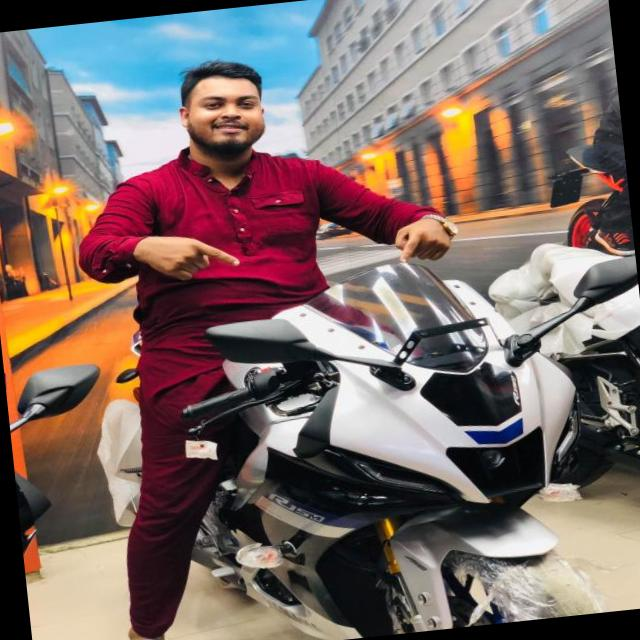No helmet: (159, 31, 298, 172)
